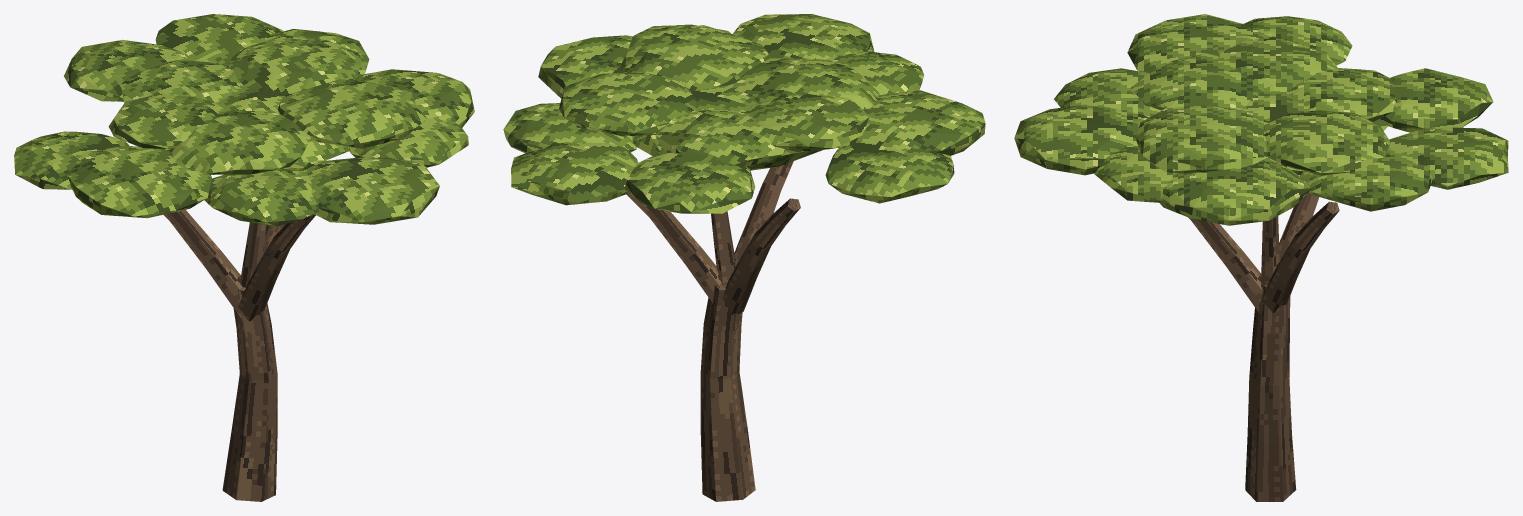
Rendered from tree_acacia.glb.
3 views of the same model, side by side, from view 1: azimuth 30°, elevation 25°; view 2: azimuth 150°, elevation 25°; view 3: azimuth 270°, elevation 25° (orthographic).
Visible parts, largest first — view 1: tree_acacia; view 2: tree_acacia; view 3: tree_acacia.
Boxes of the visible parts, x1=… form: tree_acacia: x1=14, y1=14, x2=474, y2=501; tree_acacia: x1=503, y1=14, x2=985, y2=501; tree_acacia: x1=1014, y1=14, x2=1508, y2=501.
Bounding box in the file's own units: 3.53 × 3.2 × 3.58.
Materials: 2 (2 with a texture image).
